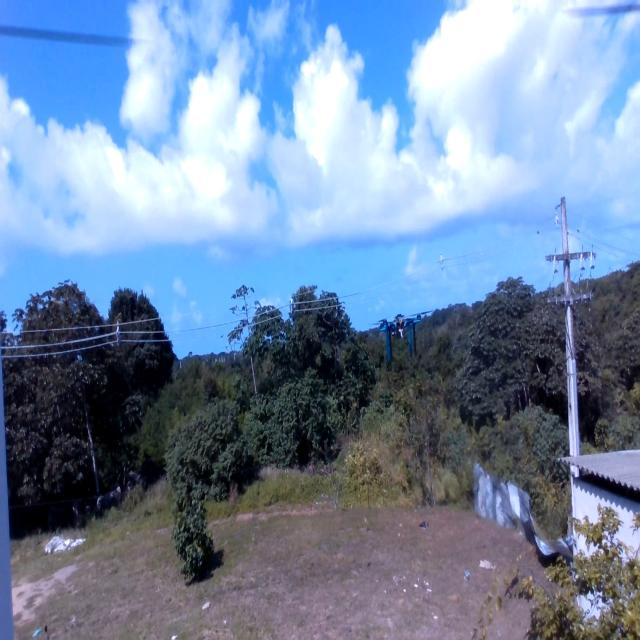-uav-: (366, 300, 439, 368)
